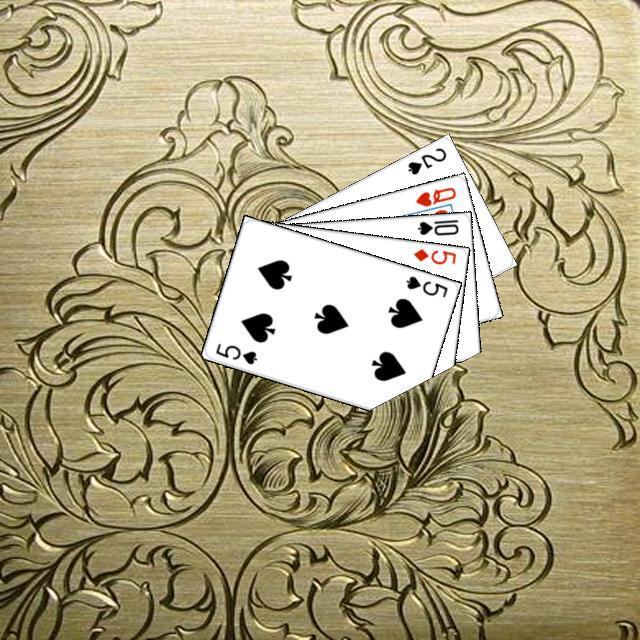10s: (413, 214, 460, 237)
2s: (403, 143, 448, 177)
5d: (408, 243, 458, 266)
5s: (401, 271, 449, 299), (211, 338, 259, 366)
Qh: (410, 182, 458, 208)
